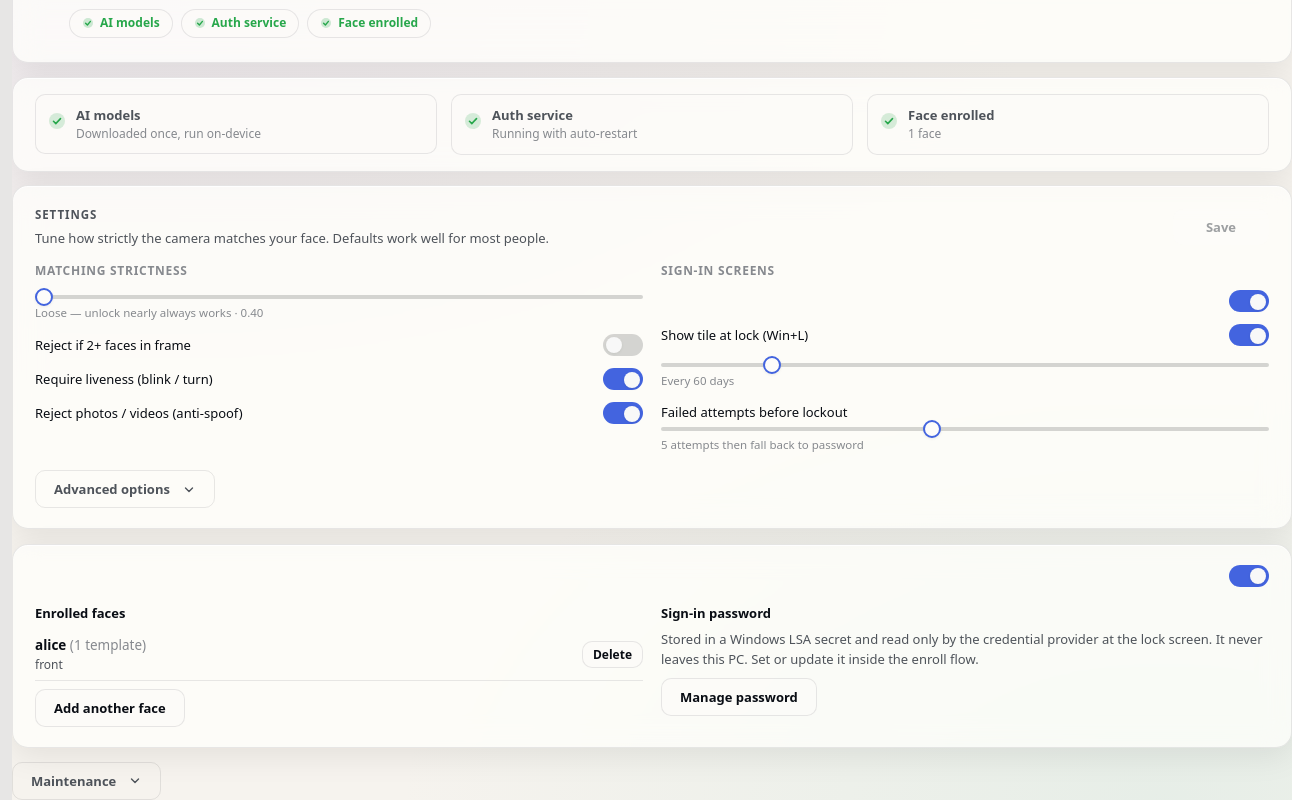
FaceUnlockTab › shows maintenance actions when expanded
(page scrolled)
Click the button "Maintenance": click(87, 781) [12, 762, 161, 799]
(page scrolled)
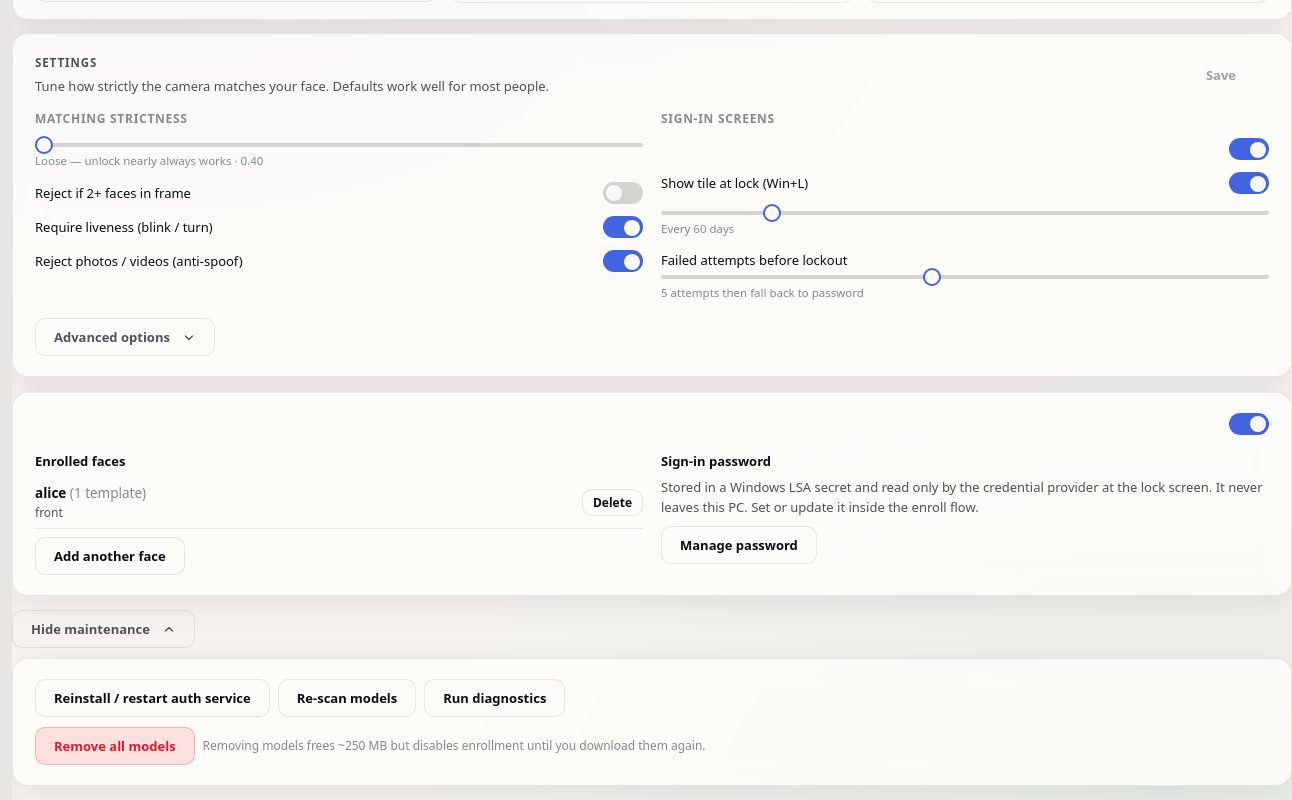
Check: the button "Run diagnostics" is shown, box [424, 679, 565, 717]
Check: the button "Re-scan models" is shown, box [278, 679, 416, 717]
Check: the button "Remove all models" is shown, box [35, 727, 195, 765]
